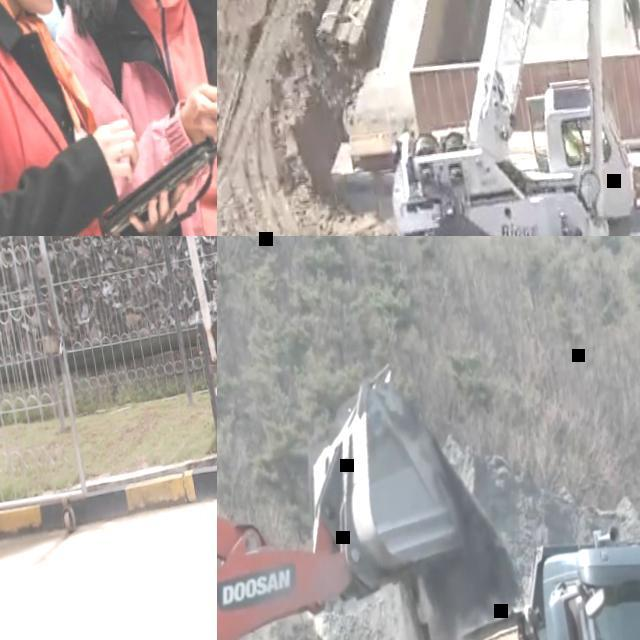vest: (565, 135, 581, 160)
